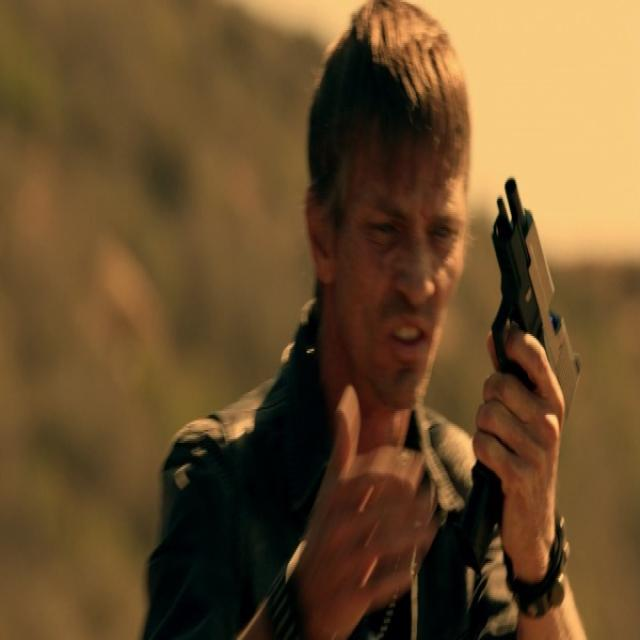weapons: (445, 165, 583, 574)
